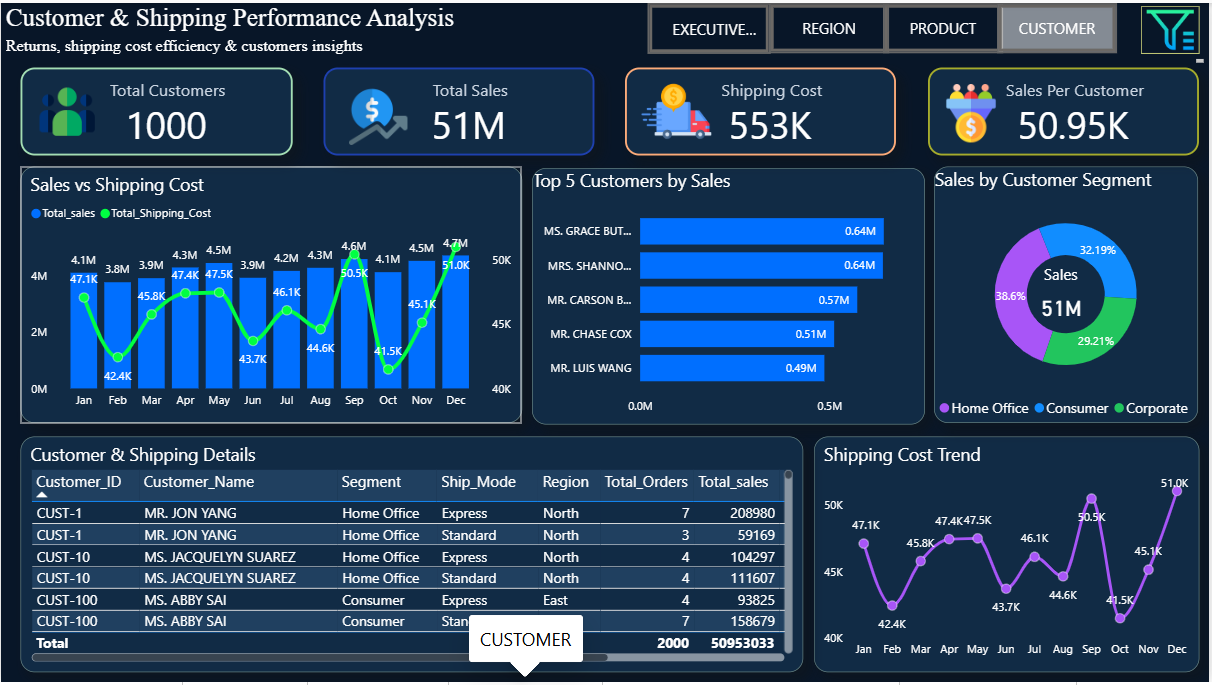

Layout of this report page (visuals, bound fields, positions):
{"tool":"powerbi","page":{"name":"CUSTOMER","canvas":[1280,720],"ordinal":3},"visuals":[{"type":"textbox","title":"Customer & Shipping Performance Analysis","box":[0,0,1280,68.3],"z":0},{"type":"actionButton","title":"REGION                     ","box":[815.1,0,127.4,53.4],"z":0,"group":"g6"},{"type":"card","title":"Total Customers","fields":{"Values":["Calculate Measure.Total_Customers"]},"box":[20,68.3,288.3,93.3],"z":0,"group":"g3"},{"type":"card","title":"Shipping Cost","fields":{"Values":["Calculate Measure.Total_Shipping_Cost"]},"box":[662.5,68.3,287.6,93.1],"z":0,"group":"g4"},{"type":"card","title":"Sales Per Customer","fields":{"Values":["Calculate Measure.Sales per Customer"]},"box":[983.3,68.3,287.6,93.1],"z":0,"group":"g5"},{"type":"card","title":"Total Sales","fields":{"Values":["Calculate Measure.Total_sales"]},"box":[341.6,68.9,287.6,93.1],"z":0,"group":"g2"},{"type":"donutChart","title":"  Sales by Customer Segment","fields":{"Category":["customers.Segment"],"Y":["Calculate Measure.Total_sales"]},"box":[990,172.8,280,271.7],"z":0,"group":"g1"},{"type":"actionButton","title":"REGION                     ","box":[685.6,0,130.4,54.1],"z":1000,"group":"g6"},{"type":"image","box":[680,77.5,74,74],"z":1000,"group":"g4"},{"type":"image","box":[37.9,85.5,63.7,58.5],"z":1000,"group":"g3"},{"type":"image","box":[992,85.9,75.8,62],"z":1000,"group":"g5"},{"type":"image","box":[369.1,86.5,62,67.2],"z":1000,"group":"g2"},{"type":"lineClusteredColumnComboChart","title":"Sales vs Shipping Cost ","fields":{"Category":["date_table.Month_Short"],"Y":["Calculate Measure.Total_sales"],"Y2":["Calculate Measure.Total_Shipping_Cost"]},"box":[20,173.3,531.7,271.7],"z":1000},{"type":"card","title":"Sales","fields":{"Values":["Calculate Measure.Total_sales"]},"box":[1084.4,276.1,81.4,66.2],"z":1000,"group":"g1"},{"type":"actionButton","title":"REGION                     ","box":[935.7,0,127.4,53.4],"z":2000,"group":"g6"},{"type":"clusteredBarChart","title":"Top 5 Customers by Sales","fields":{"Category":["customers.Customer_Name"],"Y":["Calculate Measure.Total_sales"]},"box":[562.5,175,416.7,271.7],"z":2000},{"type":"actionButton","title":"REGION                     ","box":[1056.2,0,127.4,53.4],"z":3000,"group":"g6"},{"type":"lineChart","title":"Shipping Cost Trend","fields":{"Category":["date_table.Month_Short"],"Y":["Calculate Measure.Total_Shipping_Cost"]},"box":[861.7,460,408.3,250],"z":3000},{"type":"tableEx","title":"Customer & Shipping Details","fields":{"Values":["customers.Customer_ID","customers.Customer_Name","customers.Segment","shipping.Ship_Mode","regions.Region","Calculate Measure.Total_Orders","Calculate Measure.Total_sales","Calculate Measure.Return_Rate","Calculate Measure.Total_Shipping_Cost"]},"box":[20,460,830,250],"z":4000},{"type":"group","id":"g1","title":"Group 4","box":[990,172.8,280,271.7],"z":5000},{"type":"group","id":"g2","title":"Group 3","box":[341.6,68.9,287.6,93],"z":6000},{"type":"group","id":"g3","title":"Group 2","box":[20,68.3,288.3,93.3],"z":7000},{"type":"group","id":"g4","title":"Group 1","box":[662.5,68.3,287.6,93.1],"z":8000},{"type":"group","id":"g5","title":"Group 5","box":[983.3,68.3,286.7,93.3],"z":9000},{"type":"group","id":"g6","title":"Group 6","box":[685.6,0,497.9,54.1],"z":10000},{"type":"image","box":[1208.9,3.2,62,50.9],"z":12000}]}

Visuals, with their boxes in screenshot pixels (x1, y1, x2, y2), scaled from the page's 1280x720 canvas onto the 1212x685 screenshot:
"Customer & Shipping Performance Analysis" textbox: box=[0, 0, 1211, 65]
"REGION                     " actionButton: box=[772, 0, 892, 51]
"Total Customers" card: box=[19, 65, 292, 154]
"Shipping Cost" card: box=[627, 65, 900, 154]
"Sales Per Customer" card: box=[931, 65, 1203, 154]
"Total Sales" card: box=[323, 66, 596, 154]
"  Sales by Customer Segment" donutChart: box=[937, 164, 1203, 423]
"REGION                     " actionButton: box=[649, 0, 773, 51]
image: box=[644, 74, 714, 144]
image: box=[36, 81, 96, 137]
image: box=[939, 82, 1011, 141]
image: box=[349, 82, 408, 146]
"Sales vs Shipping Cost " lineClusteredColumnComboChart: box=[19, 165, 522, 423]
"Sales" card: box=[1027, 263, 1104, 326]
"REGION                     " actionButton: box=[886, 0, 1007, 51]
"Top 5 Customers by Sales" clusteredBarChart: box=[533, 166, 927, 425]
"REGION                     " actionButton: box=[1000, 0, 1121, 51]
"Shipping Cost Trend" lineChart: box=[816, 438, 1203, 675]
"Customer & Shipping Details" tableEx: box=[19, 438, 805, 675]
"Group 4" group: box=[937, 164, 1203, 423]
"Group 3" group: box=[323, 66, 596, 154]
"Group 2" group: box=[19, 65, 292, 154]
"Group 1" group: box=[627, 65, 900, 154]
"Group 5" group: box=[931, 65, 1203, 154]
"Group 6" group: box=[649, 0, 1121, 51]
image: box=[1145, 3, 1203, 51]
